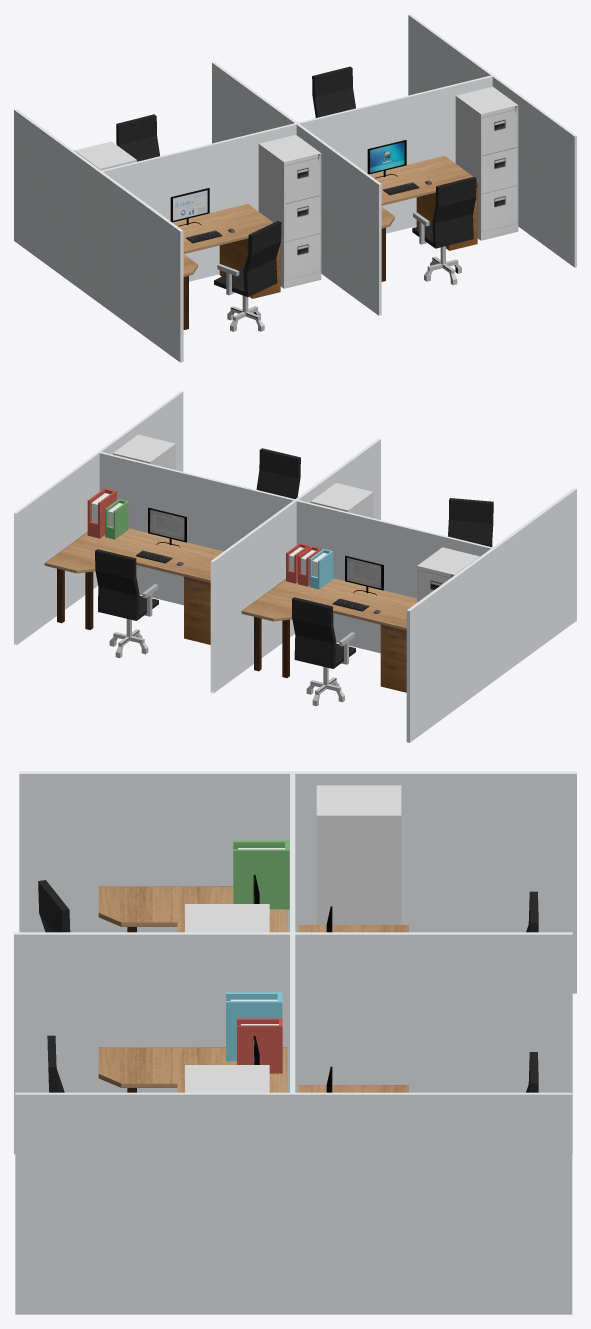
Rendered from stanowsikaglb.glb.
The picture shows the model from 3 angles, top to bottom: view 1: azimuth 30°, elevation 25°; view 2: azimuth 150°, elevation 25°; view 3: azimuth 270°, elevation 25°; orthographic projection. The views are drawn at different scales.
Parts seen in each view (by area): view 1: biurko.014, biurko.019, biurko.010, biurko.016, biurko.015, biurko.023, biurko.006, biurko.026, biurko.049, biurko.022, biurko.007, biurko.045; view 2: biurko.014, biurko.041, biurko.042, biurko.026, biurko.049, biurko.006, biurko.023, biurko.045, biurko.010, biurko.019, biurko.027, biurko.048 (+5 smaller); view 3: biurko.014, biurko.045, biurko.016, biurko.015, biurko.003, biurko.010, biurko.019, biurko.021, biurko.024, biurko.006, biurko.041, biurko.042.
Part boxes in pixels (x1=…): biurko.014: x1=14, y1=14, x2=576, y2=362; biurko.019: x1=455, y1=86, x2=518, y2=240; biurko.010: x1=258, y1=135, x2=321, y2=288; biurko.016: x1=172, y1=204, x2=280, y2=329; biurko.015: x1=369, y1=155, x2=477, y2=281; biurko.023: x1=412, y1=177, x2=476, y2=285; biurko.006: x1=214, y1=221, x2=281, y2=331; biurko.026: x1=312, y1=66, x2=355, y2=117; biurko.049: x1=116, y1=114, x2=159, y2=161; biurko.022: x1=367, y1=140, x2=406, y2=178; biurko.007: x1=170, y1=188, x2=209, y2=226; biurko.045: x1=74, y1=141, x2=136, y2=170; biurko.014: x1=14, y1=391, x2=576, y2=742; biurko.041: x1=44, y1=528, x2=223, y2=644; biurko.042: x1=241, y1=578, x2=416, y2=692; biurko.026: x1=95, y1=549, x2=158, y2=657; biurko.049: x1=292, y1=597, x2=355, y2=706; biurko.006: x1=448, y1=498, x2=493, y2=546; biurko.023: x1=256, y1=448, x2=300, y2=498; biurko.045: x1=417, y1=547, x2=479, y2=602; biurko.010: x1=310, y1=483, x2=373, y2=518; biurko.019: x1=113, y1=434, x2=175, y2=469; biurko.027: x1=148, y1=507, x2=186, y2=547; biurko.048: x1=345, y1=555, x2=383, y2=595; biurko.014: x1=14, y1=771, x2=576, y2=1314; biurko.045: x1=316, y1=785, x2=401, y2=924; biurko.016: x1=98, y1=886, x2=287, y2=932; biurko.015: x1=98, y1=1047, x2=287, y2=1092; biurko.003: x1=233, y1=840, x2=289, y2=909; biurko.010: x1=185, y1=904, x2=269, y2=932; biurko.019: x1=185, y1=1065, x2=269, y2=1092; biurko.021: x1=237, y1=1018, x2=282, y2=1073; biurko.024: x1=226, y1=992, x2=282, y2=1061; biurko.006: x1=38, y1=880, x2=70, y2=932; biurko.041: x1=299, y1=1085, x2=408, y2=1092; biurko.042: x1=299, y1=925, x2=408, y2=932.
Bounding box in the file's own units: 13.9 × 4.41 × 10.23.
Materials: 37 (37 with a texture image).
